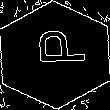P_W: (26, 35, 84, 75)
